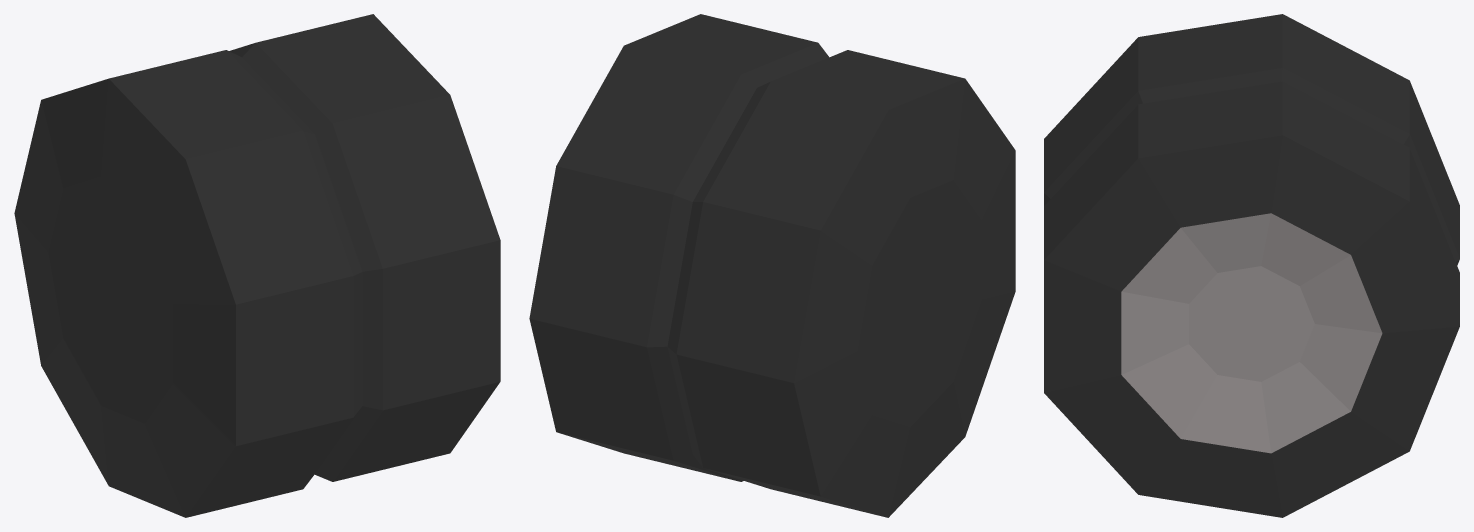
The model's file is truck-wheel_BL.glb.
3 renders of one model, left to right at view 1: azimuth 30°, elevation 25°; view 2: azimuth 150°, elevation 25°; view 3: azimuth 270°, elevation 25°, orthographic. The views are drawn at different scales.
Visible parts, largest first — view 1: truck-wheel_BL; view 2: truck-wheel_BL; view 3: truck-wheel_BL.
Part boxes in pixels (x1=…): truck-wheel_BL: x1=14, y1=14, x2=500, y2=517; truck-wheel_BL: x1=529, y1=14, x2=1015, y2=517; truck-wheel_BL: x1=1044, y1=14, x2=1459, y2=517.
Size of the model in its own units: 0.5338 by 0.7073 by 0.6966.
1 material, 1 textured.
